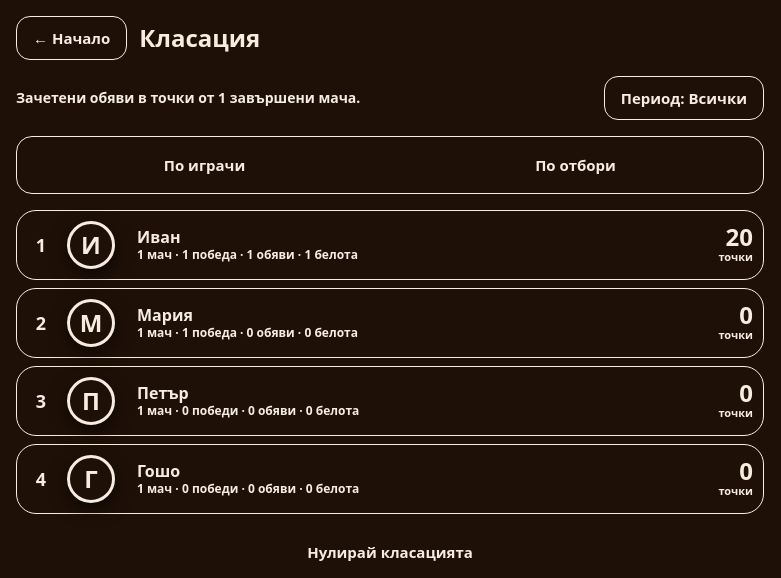
Test case: Leaderboard › one recorded match › "По отбори" lists the two pair rows, team-name prefixed, with overlapped avatars
Expected: the heading "Класация" is shown, [139,22,260,54]
What coordinates should you click on to do the following:
click the radio button labelled "По отбори"
I would click on:
 (576, 165)
Its box is [392,141,759,189].
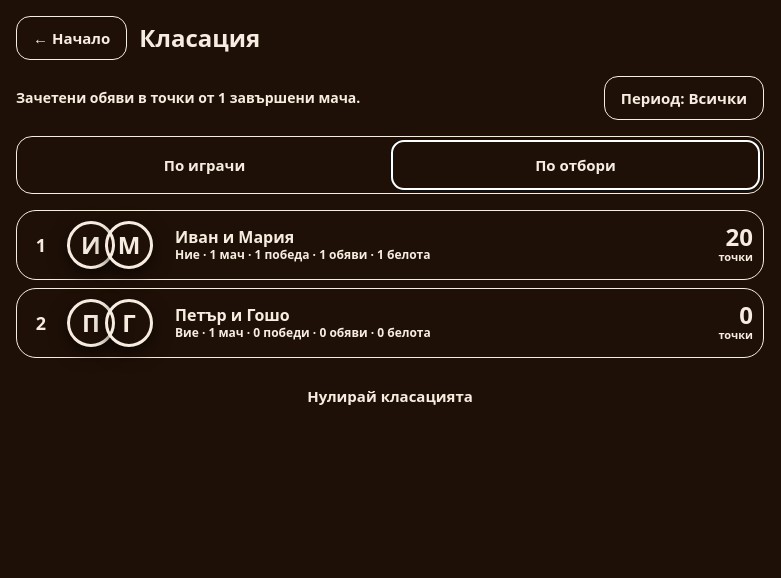
Result: the element that starts with "Иван и Мария" shows "Ние · 1 мач · 1 победа · 1 обяви · 1 белота" at [175,246,430,263]
Result: the element that starts with "Петър и Гошо" shows "Вие · 1 мач · 0 победи · 0 обяви · 0 белота" at [175,324,431,341]
